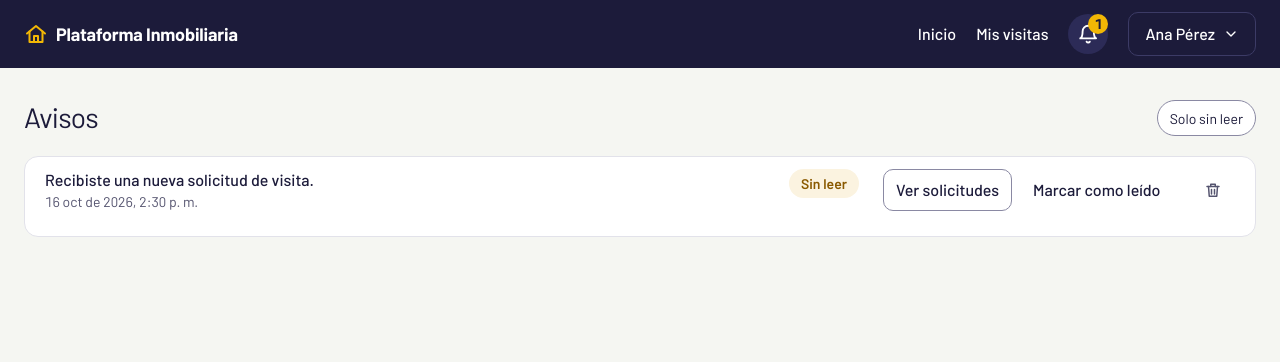
Test: NotificationsPage › deletes a notification that no longer matters
The image size is (1280, 362).
Click the button named "Borrar aviso": click(1213, 190) top-left (1191, 172), bottom-right (1235, 208)
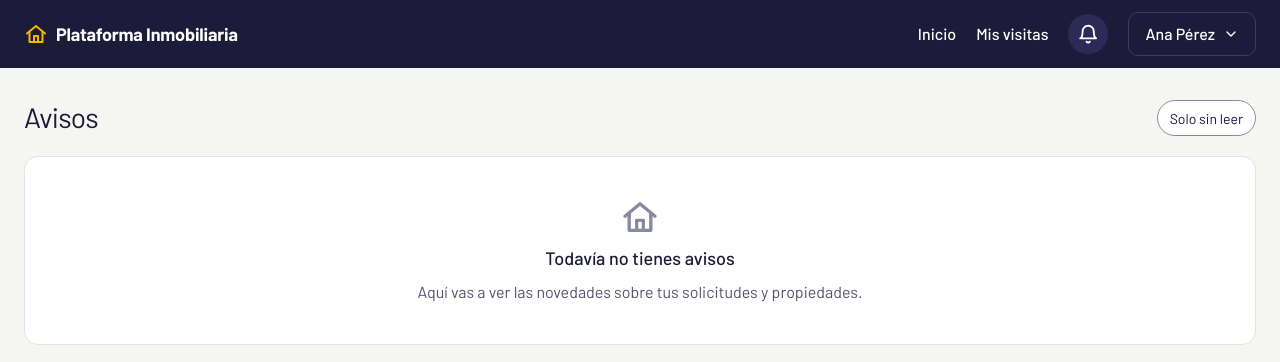
Check: the list item is gone
